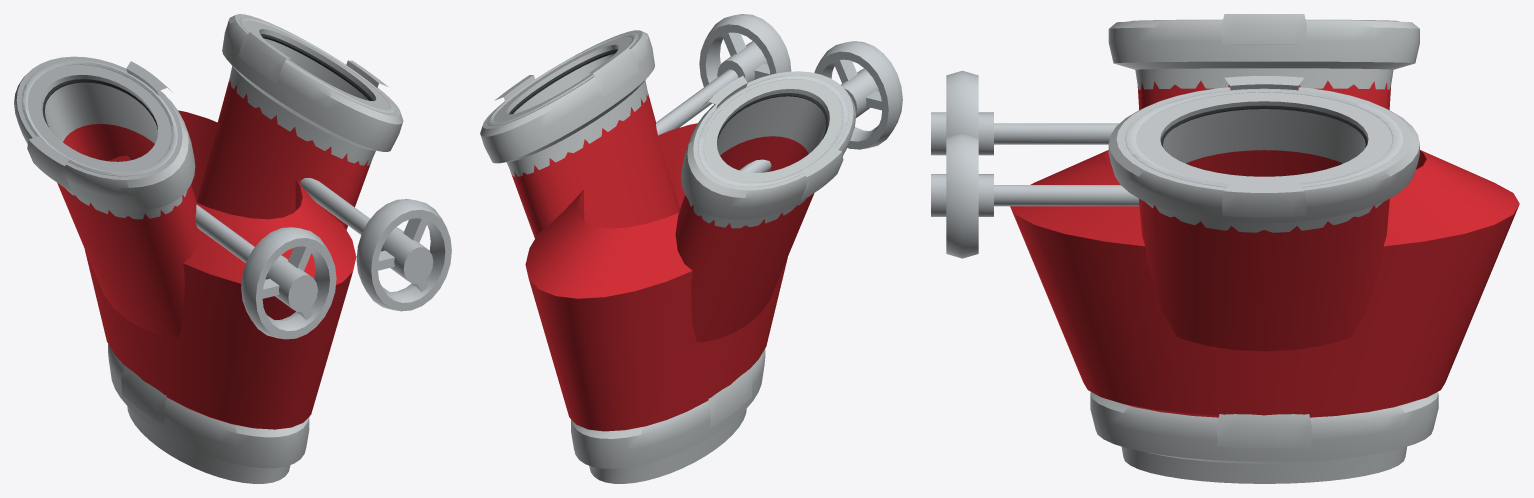
The model's file is ob_valve_g5_upper.glb.
3 renders of one model, left to right at view 1: azimuth 30°, elevation 25°; view 2: azimuth 150°, elevation 25°; view 3: azimuth 270°, elevation 25°, orthographic. The views are drawn at different scales.
Parts seen in each view (by area): view 1: ob_valve_g5_upper; view 2: ob_valve_g5_upper; view 3: ob_valve_g5_upper.
Part boxes in pixels (x1,y1,x2,y2): ob_valve_g5_upper: [14, 14, 451, 483]; ob_valve_g5_upper: [480, 14, 902, 483]; ob_valve_g5_upper: [931, 14, 1519, 483].
Bounding box in the file's own units: 0.31 × 0.34 × 0.44.
